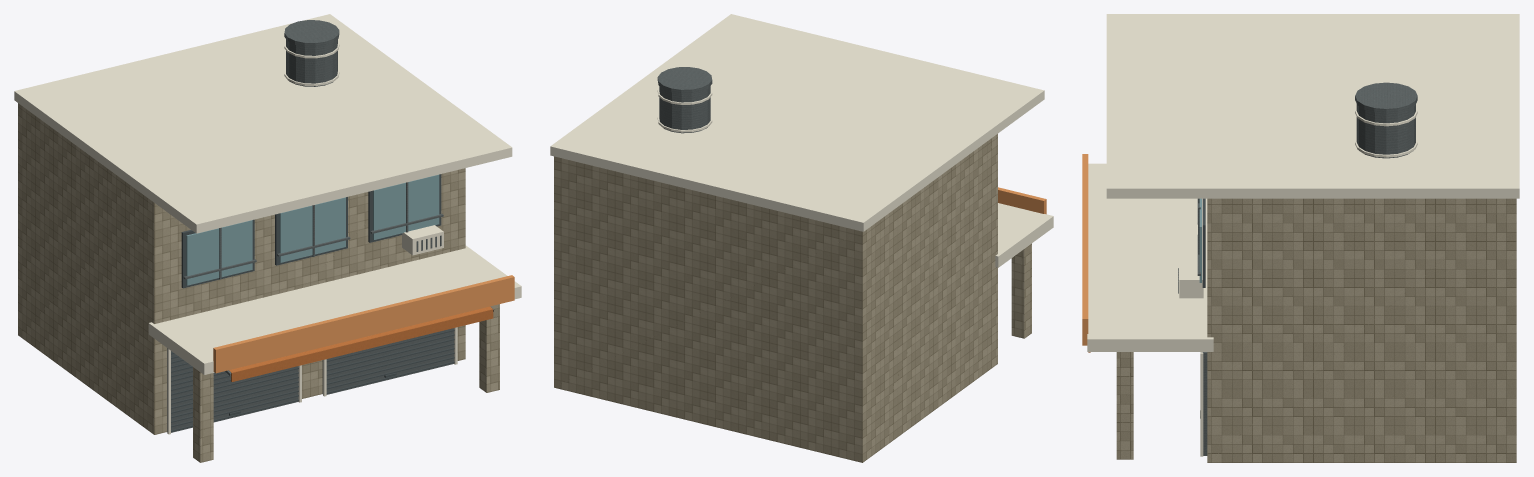
The model's file is tw_arcade_shop.glb.
The picture shows the model from 3 angles, left to right: view 1: azimuth 30°, elevation 25°; view 2: azimuth 150°, elevation 25°; view 3: azimuth 270°, elevation 25°; orthographic projection. The views are drawn at different scales.
Visible parts, largest first — view 1: PaintedCream, TiledMasonry, GalvanizedMetal, OpaqueStoreGlazing, FictionalShopAccent, CharcoalRecess, WovenAwning; view 2: TiledMasonry, PaintedCream, GalvanizedMetal, FictionalShopAccent; view 3: PaintedCream, TiledMasonry, GalvanizedMetal, FictionalShopAccent.
Boxes of the visible parts, <box> form: PaintedCream: <box>14,14,521,434</box>; TiledMasonry: <box>18,103,499,462</box>; GalvanizedMetal: <box>167,20,493,432</box>; OpaqueStoreGlazing: <box>186,174,439,285</box>; FictionalShopAccent: <box>213,275,514,373</box>; CharcoalRecess: <box>171,174,454,431</box>; WovenAwning: <box>229,306,493,381</box>; TiledMasonry: <box>554,134,1031,462</box>; PaintedCream: <box>550,14,1053,267</box>; GalvanizedMetal: <box>657,67,712,133</box>; FictionalShopAccent: <box>998,187,1046,214</box>; PaintedCream: <box>1087,14,1519,456</box>; TiledMasonry: <box>1116,198,1516,462</box>; GalvanizedMetal: <box>1178,82,1417,455</box>; FictionalShopAccent: <box>1082,154,1088,345</box>.
Bounding box in the file's own units: 10.2 × 8.84 × 10.75.
Materials: 7 (3 with a texture image).
